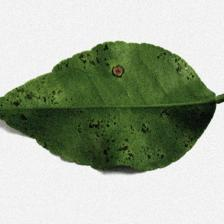canker: (8, 41, 152, 167)
